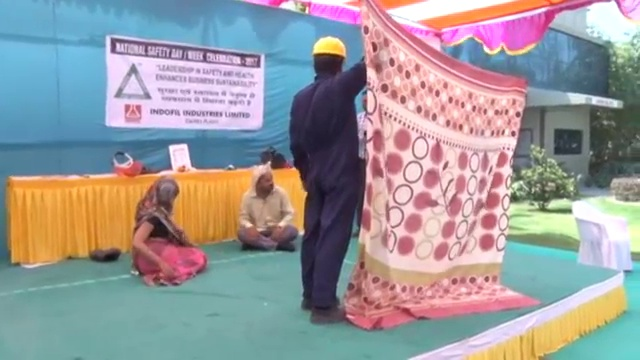helmet: (311, 36, 347, 60)
helmet_off: (147, 174, 182, 206), (251, 164, 275, 198)
helmet_on: (310, 36, 348, 79)
person: (286, 32, 363, 324), (129, 175, 206, 287), (232, 163, 298, 251)
